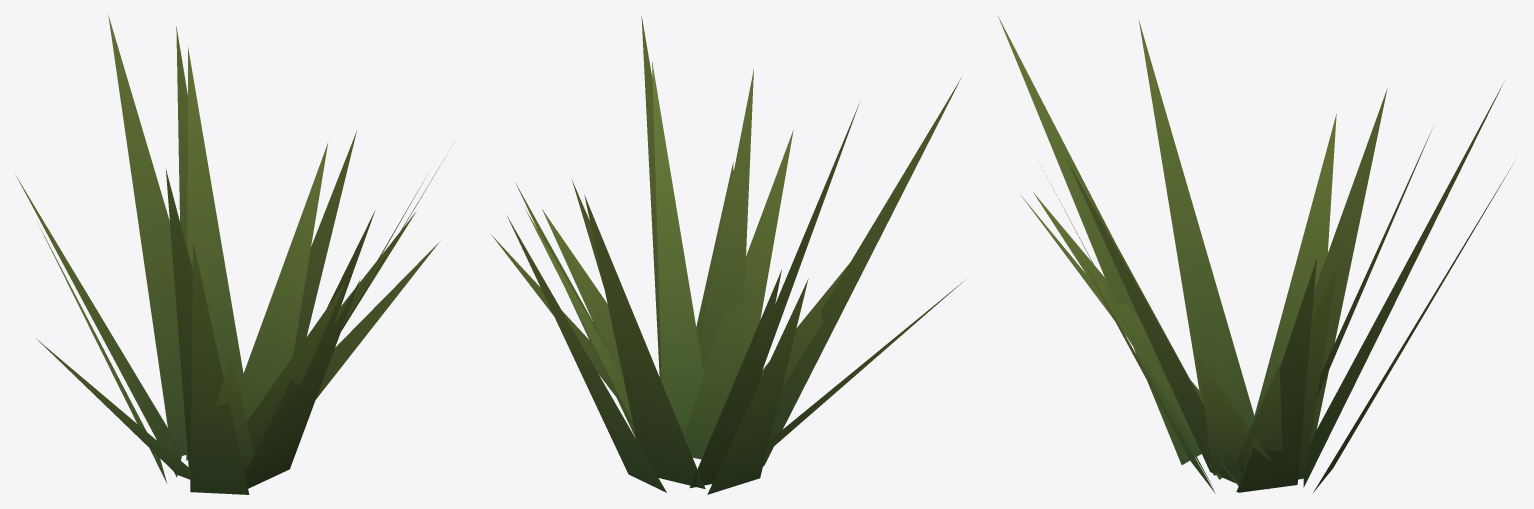
Rendered from SM_Trawa_2.glb.
3 renders of one model, left to right at view 1: azimuth 30°, elevation 25°; view 2: azimuth 150°, elevation 25°; view 3: azimuth 270°, elevation 25°, orthographic. The views are drawn at different scales.
Visible parts, largest first — view 1: SM_Trawa_2; view 2: SM_Trawa_2; view 3: SM_Trawa_2.
Boxes of the visible parts, x1=… form: SM_Trawa_2: x1=16, y1=15, x2=444, y2=494; SM_Trawa_2: x1=491, y1=16, x2=965, y2=494; SM_Trawa_2: x1=998, y1=16, x2=1513, y2=493.
Bounding box in the file's own units: 1.05 × 0.8365 × 1.01.
